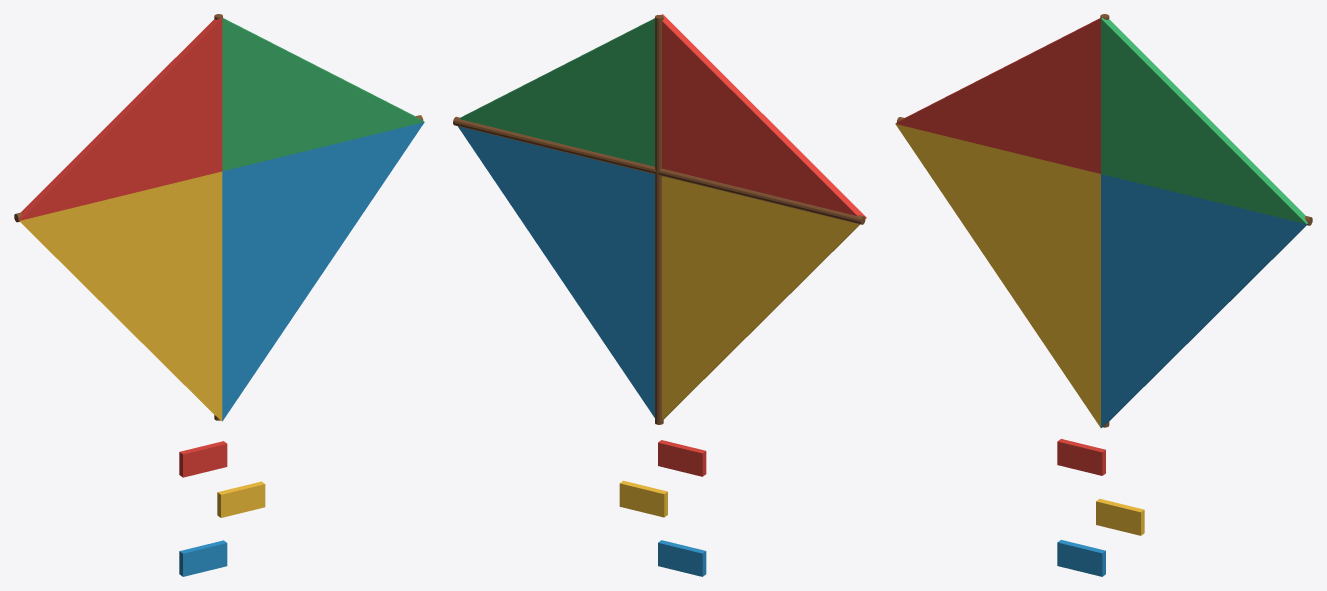
File: pipa.glb
3 renders of one model, left to right at view 1: azimuth 30°, elevation 25°; view 2: azimuth 150°, elevation 25°; view 3: azimuth 330°, elevation 25°, orthographic.
Visible parts, largest first — view 1: pipa; view 2: pipa; view 3: pipa.
Part boxes in pixels (box(x1,y1,x2,y2)): pipa: box(14, 14, 424, 576); pipa: box(453, 14, 866, 576); pipa: box(895, 14, 1312, 576).
Size of the model in its own units: 0.64 by 0.8265 by 0.021.
